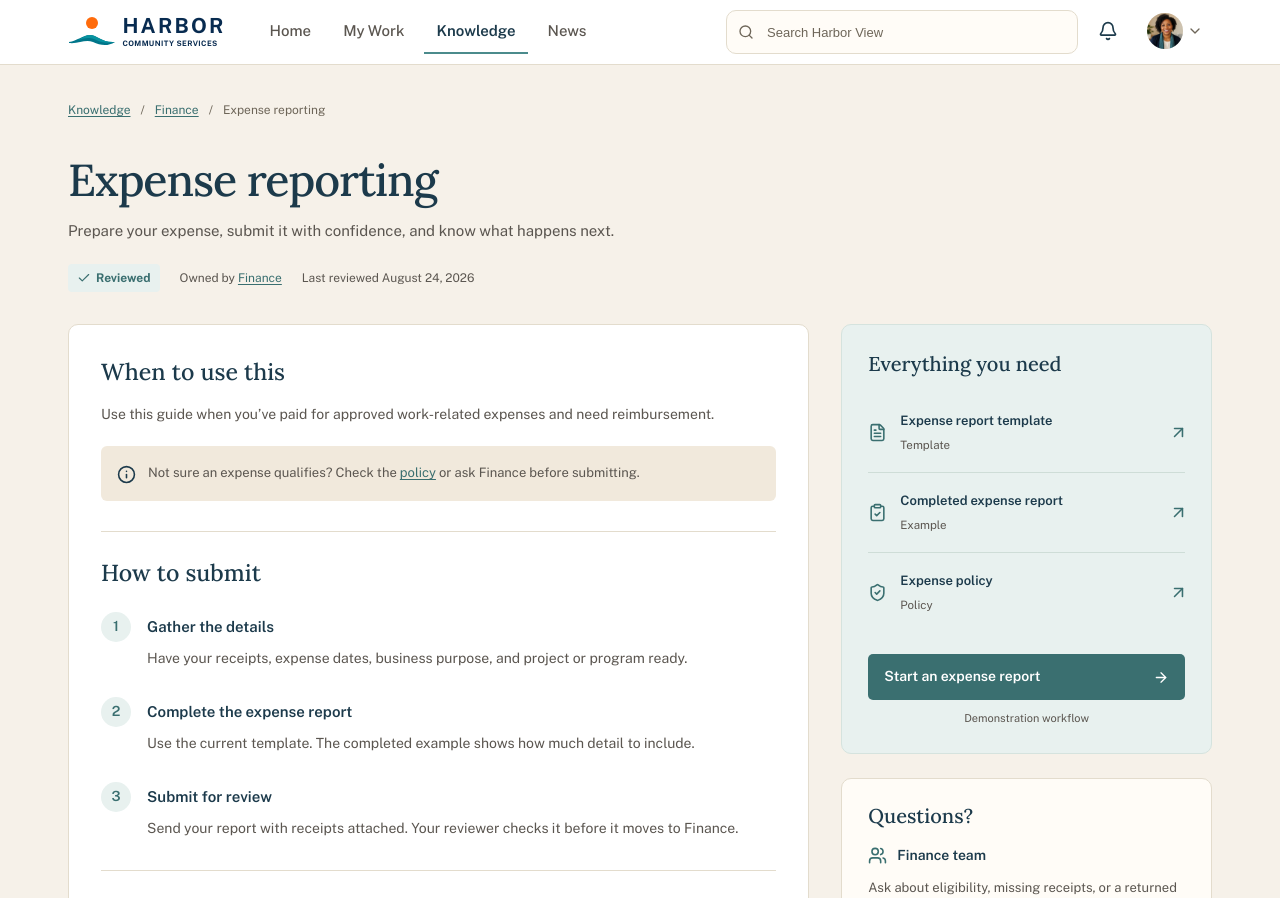
Test: Knowledge journeys › does not pretend to submit a report or send a message
What coordinates should you click on to do the following:
click the button "Start an expense report"
I would click on:
 (1027, 677)
Its box is [868,654,1185,700].
(page scrolled)
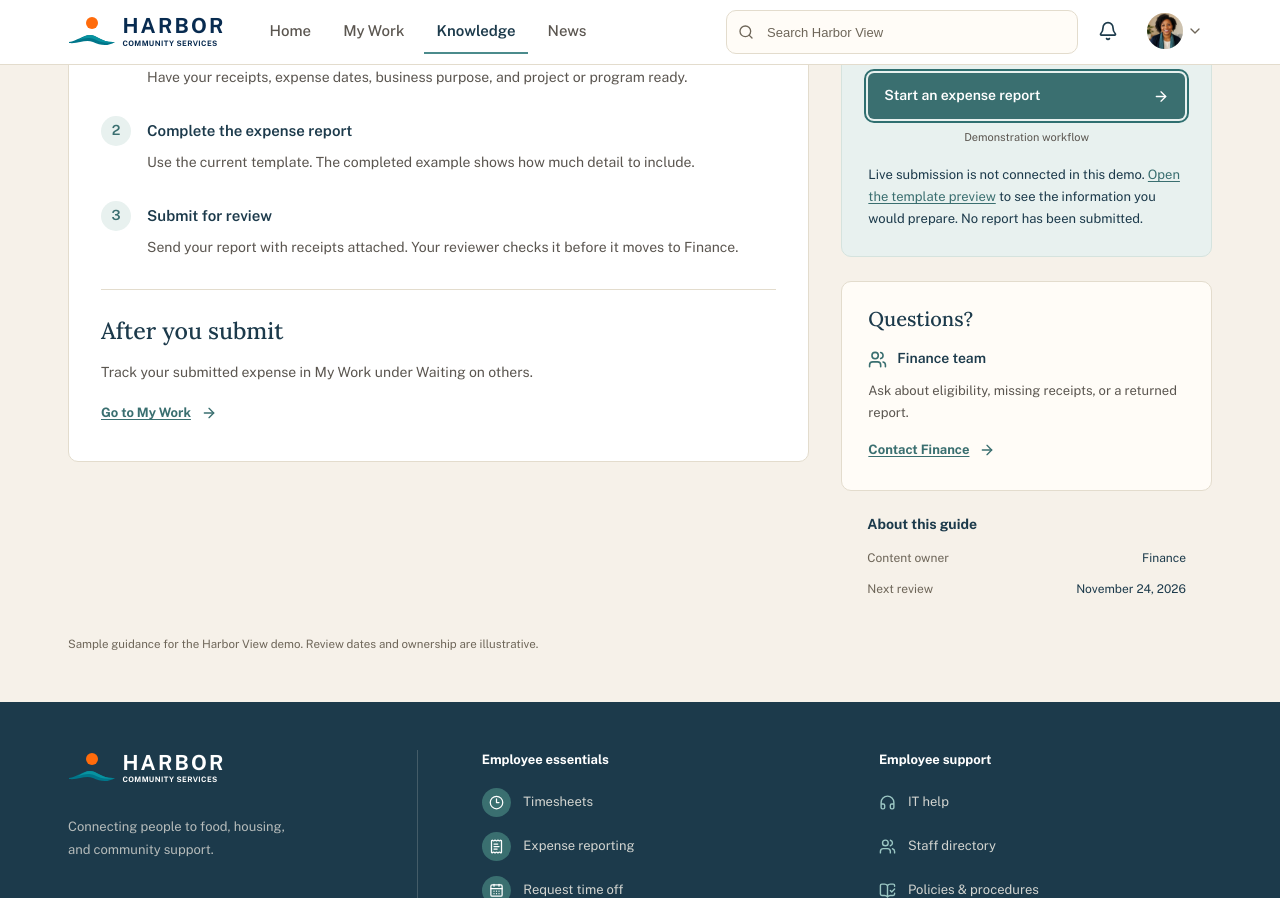
Expected: the text "No report has been submitted" is shown, [868,189,1156,226]
What coordinates should you click on to do the following:
click the link "Contact Finance"
I would click on:
 (932, 450)
Its box is [868,442,995,458].
(page scrolled)
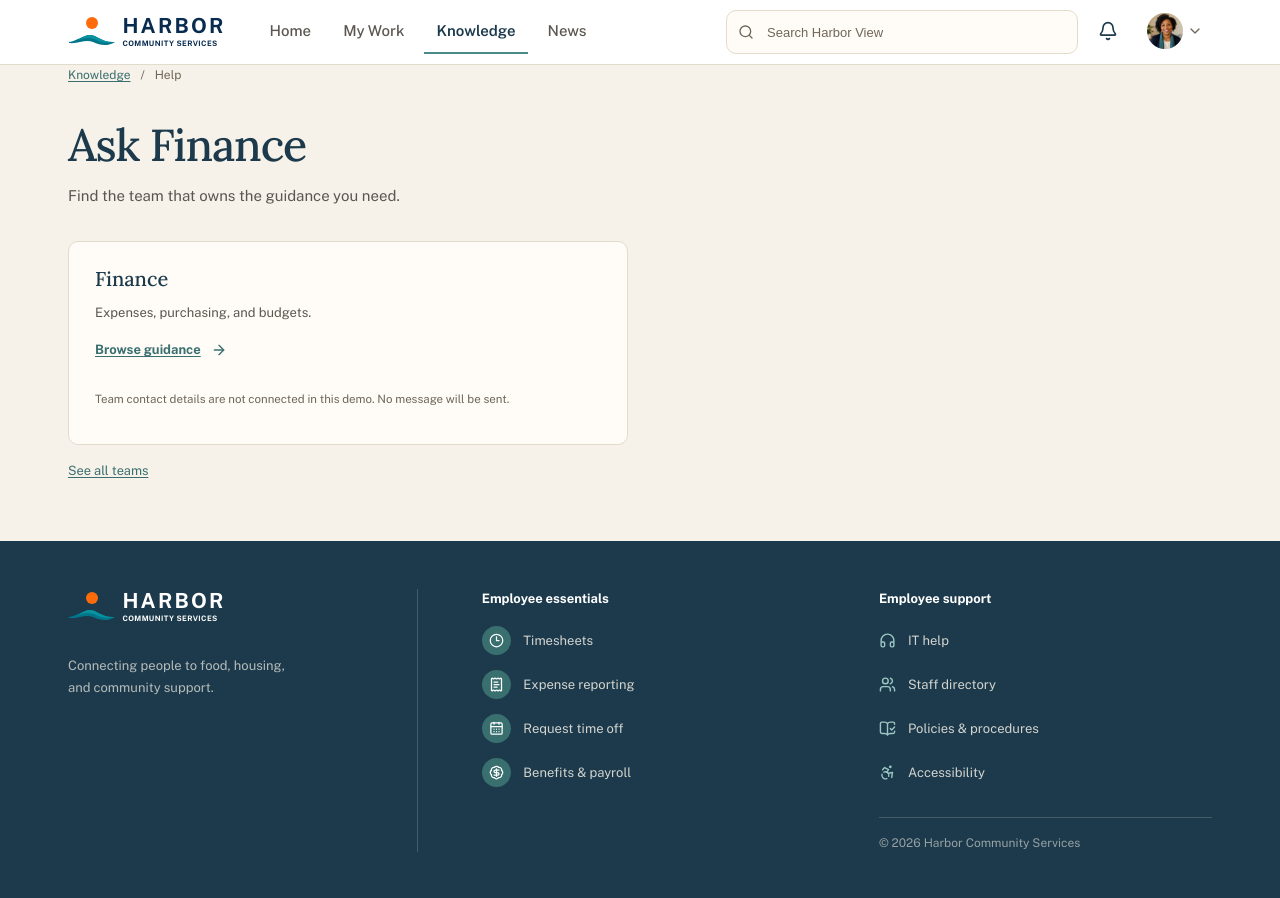
Expected: the heading "Ask Finance" is shown, [68,116,306,173]
Expected: the text "No message will be sent" is shown, [95,392,509,406]
